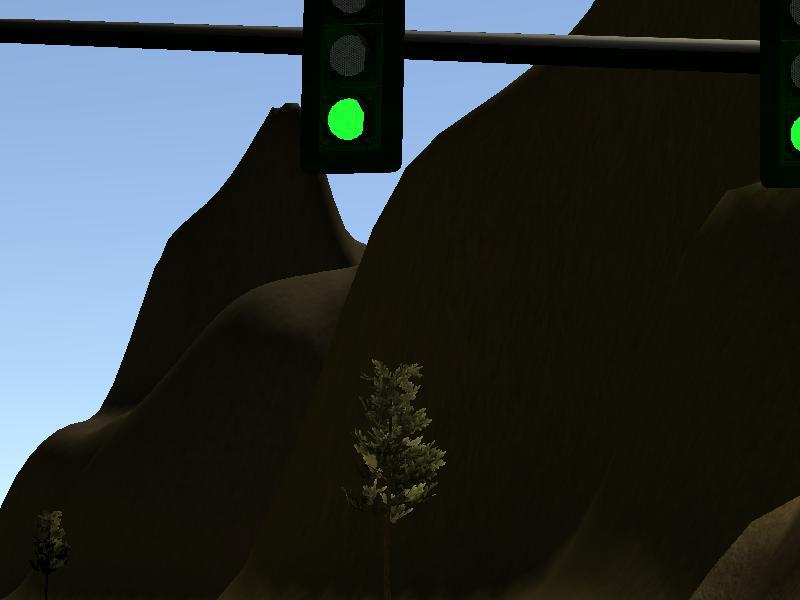Green: (306, 1, 400, 170), (760, 1, 799, 188)
